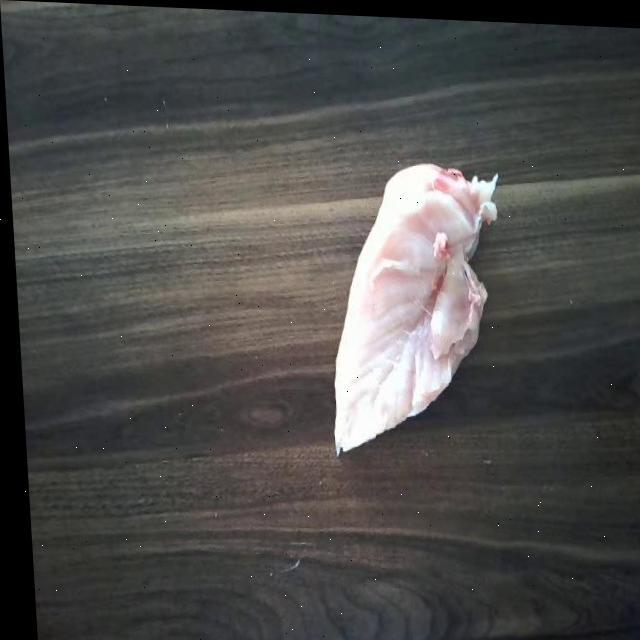breast: (321, 143, 506, 461)
